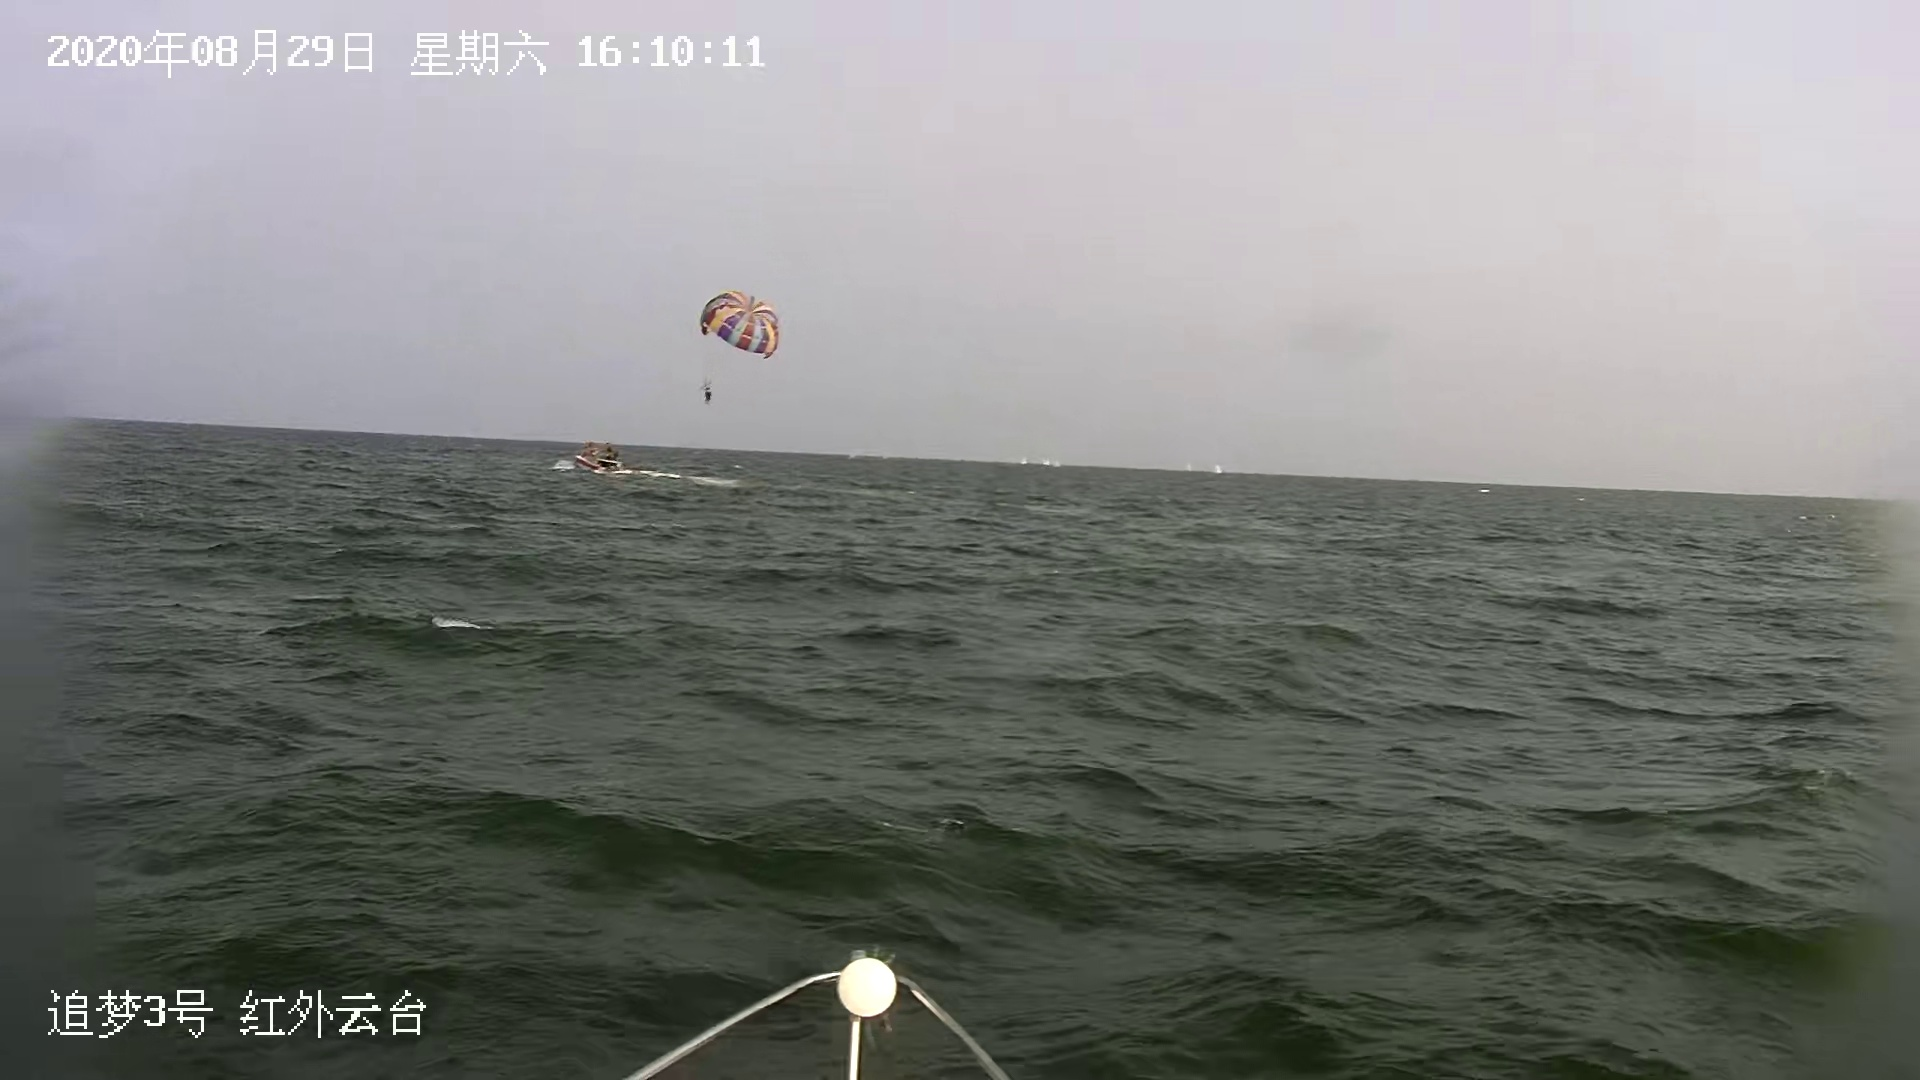barrier: (564, 440, 640, 476), (1209, 463, 1226, 475), (1017, 458, 1027, 465), (1042, 460, 1052, 465), (1185, 465, 1192, 472)
